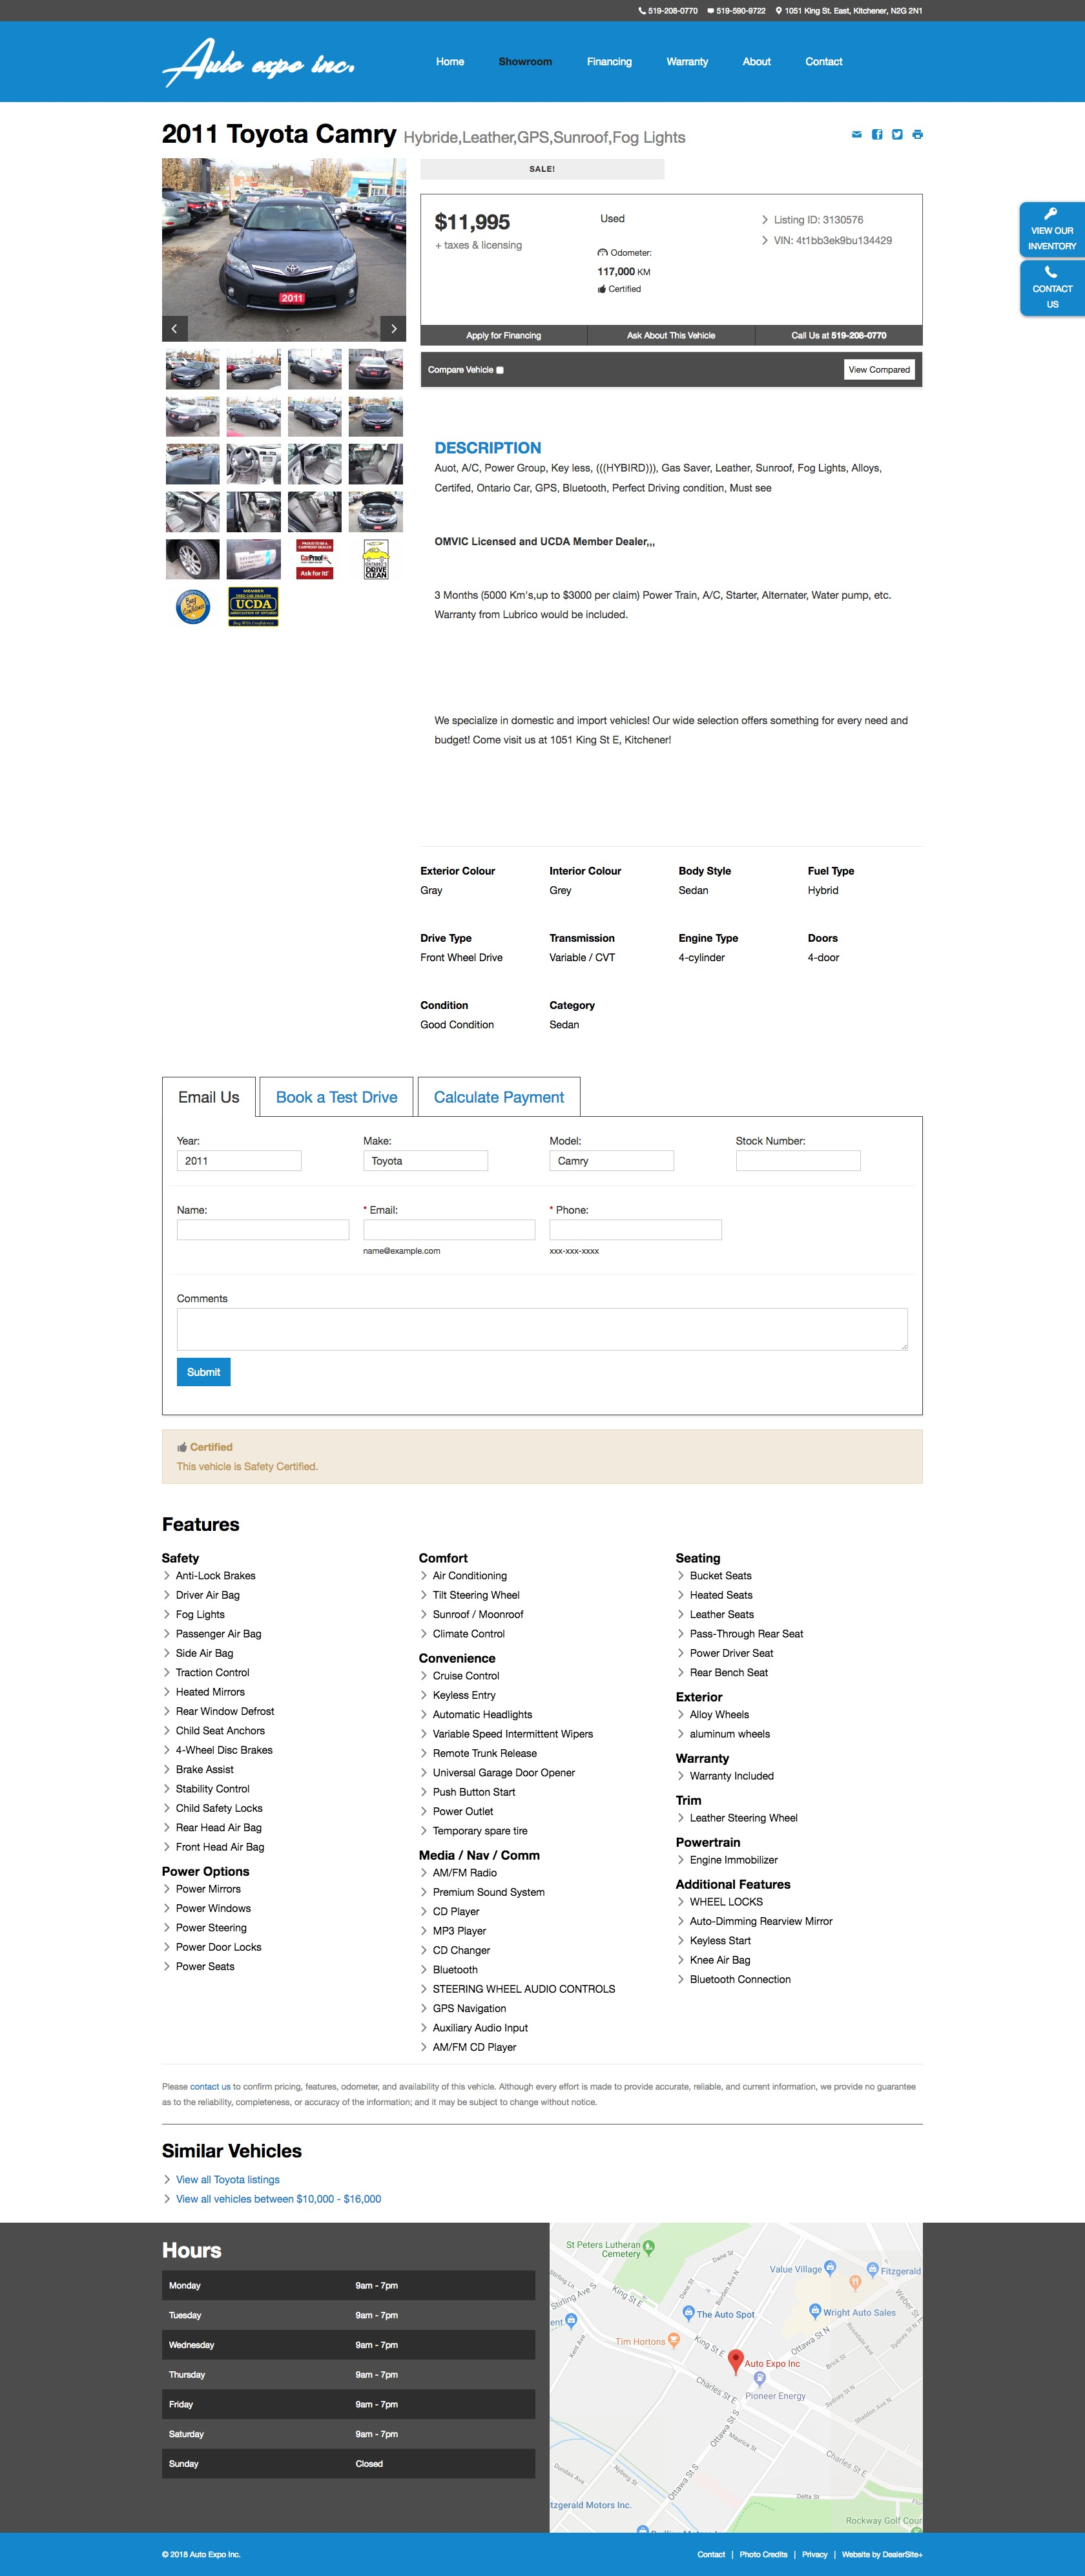car: (381, 315, 409, 343)
